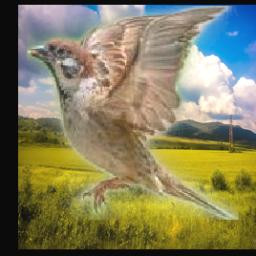Sparrow: (27, 6, 239, 220)
